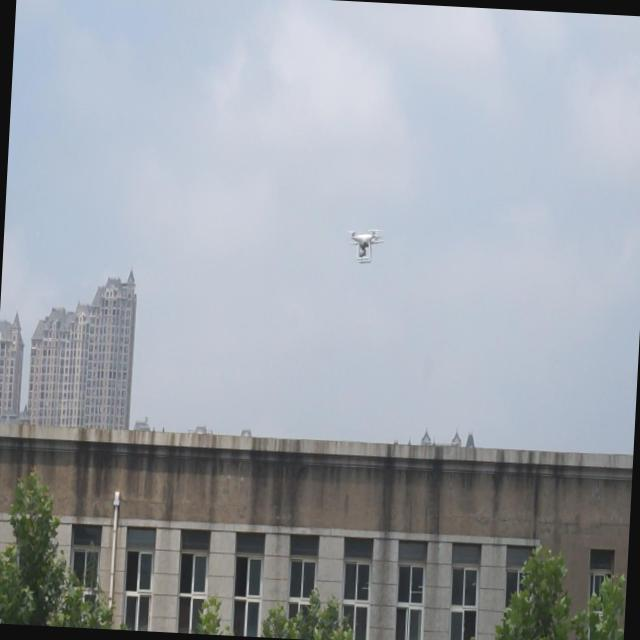drone: (344, 222, 385, 272)
